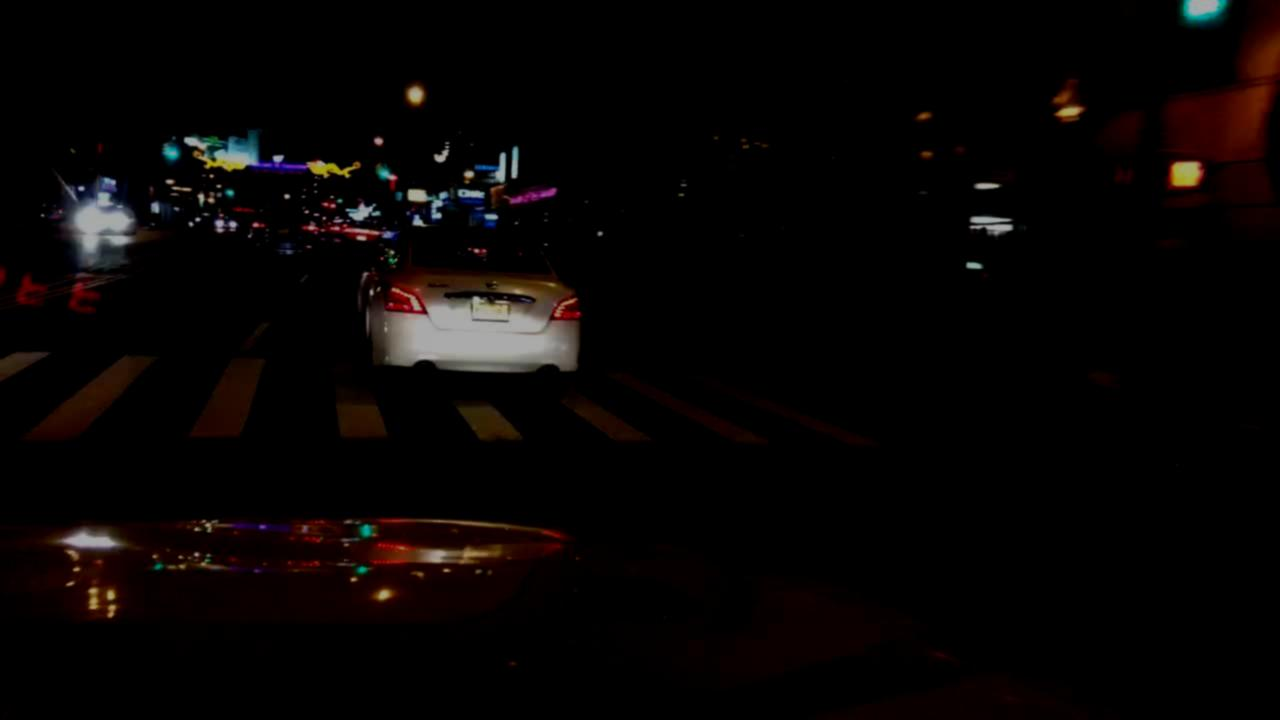Nissan: (480, 274, 503, 292)
